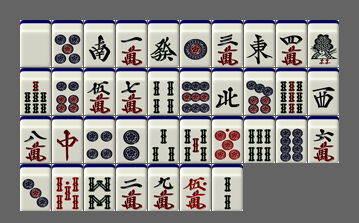0m: (180, 164, 211, 211)
0p: (212, 116, 243, 163)
0s: (52, 164, 83, 211)
1m: (116, 20, 147, 67)
1p: (180, 20, 211, 67)
1s: (308, 20, 339, 67)
1z: (244, 20, 275, 67)
2m: (116, 164, 147, 211)
2p: (116, 116, 147, 163)
2s: (212, 164, 243, 211)
2z: (84, 20, 115, 67)
3m: (212, 20, 243, 67)
3p: (20, 164, 51, 211)
3s: (148, 116, 179, 163)
3z: (308, 68, 339, 115)
4m: (276, 20, 307, 67)
4p: (84, 116, 115, 163)
4s: (148, 68, 179, 115)
4z: (212, 68, 243, 115)
5m: (84, 68, 115, 115)
5p: (52, 20, 83, 67)
5s: (180, 116, 211, 163)
5z: (20, 20, 51, 67)
6m: (308, 116, 339, 163)
6p: (52, 68, 83, 115)
6s: (244, 116, 275, 163)
6z: (148, 20, 179, 67)
7m: (116, 68, 147, 115)
7p: (244, 68, 275, 115)
7s: (20, 68, 51, 115)
7z: (52, 116, 83, 163)
8m: (20, 116, 51, 163)
8p: (276, 116, 307, 163)
8s: (84, 164, 115, 211)
9m: (148, 164, 179, 211)
9p: (180, 68, 211, 115)
9s: (276, 68, 307, 115)
